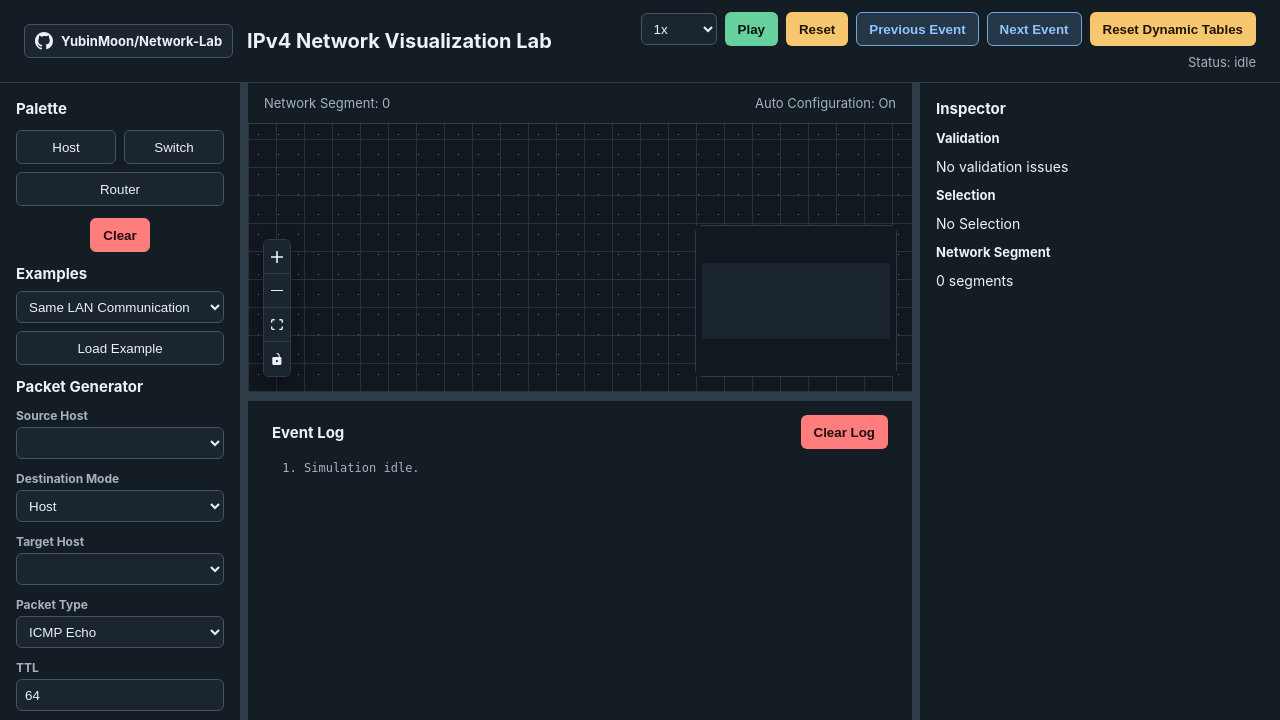
Scenario: App › creates the Event Log from the current Packet Generator input when Play starts idle
Select "Default Gateway Forwarding" in the 2nd dropdown at [120, 307], box 16,291 -> 224,323
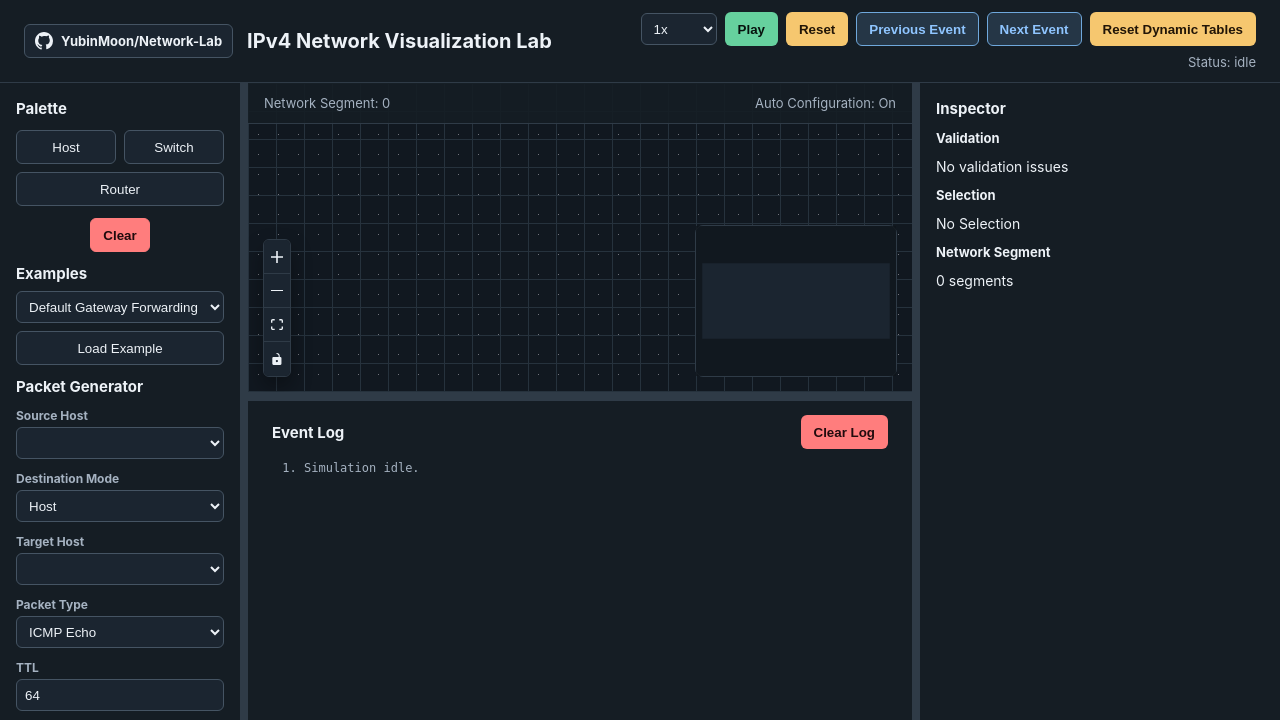
Click the button "Load Example".
click(120, 348)  # box 16,331 -> 224,365
(page scrolled)
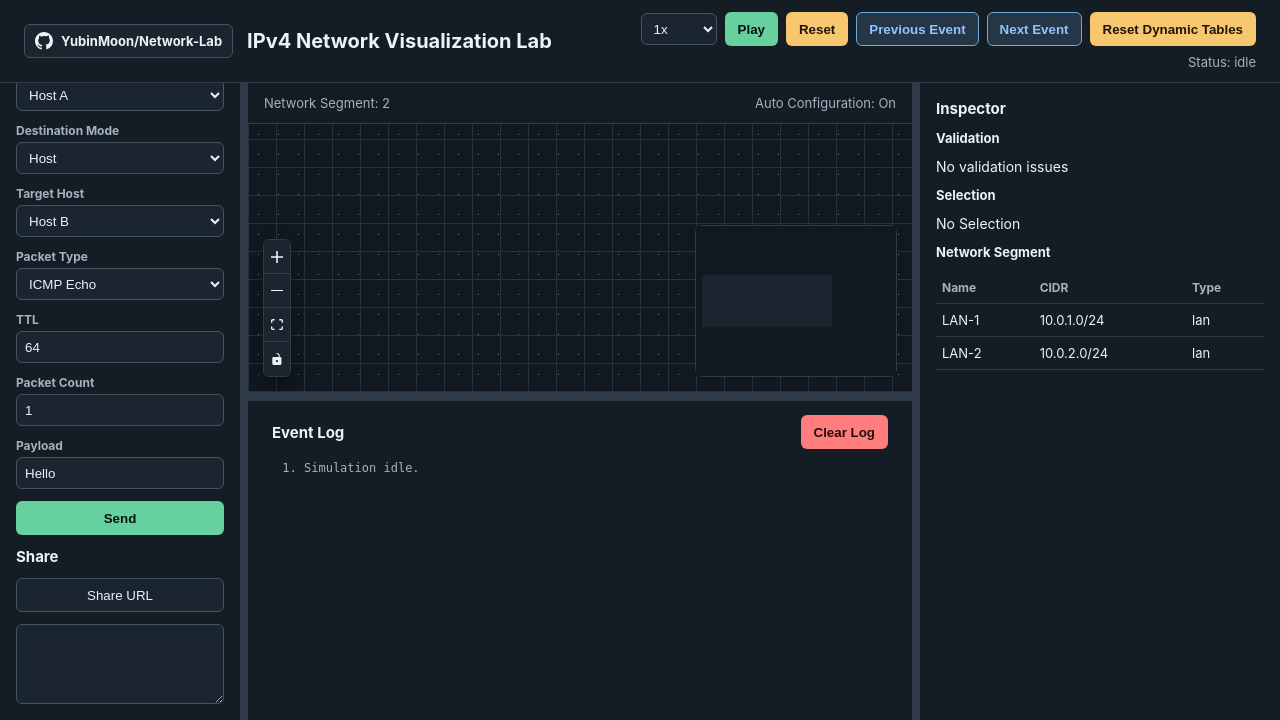
Expected: the list item "Simulation idle." is shown, 304,461 -> 420,475
Replace the text in the field labelled "Payload" with "Play starts send" at [120, 473], box 16,457 -> 224,489
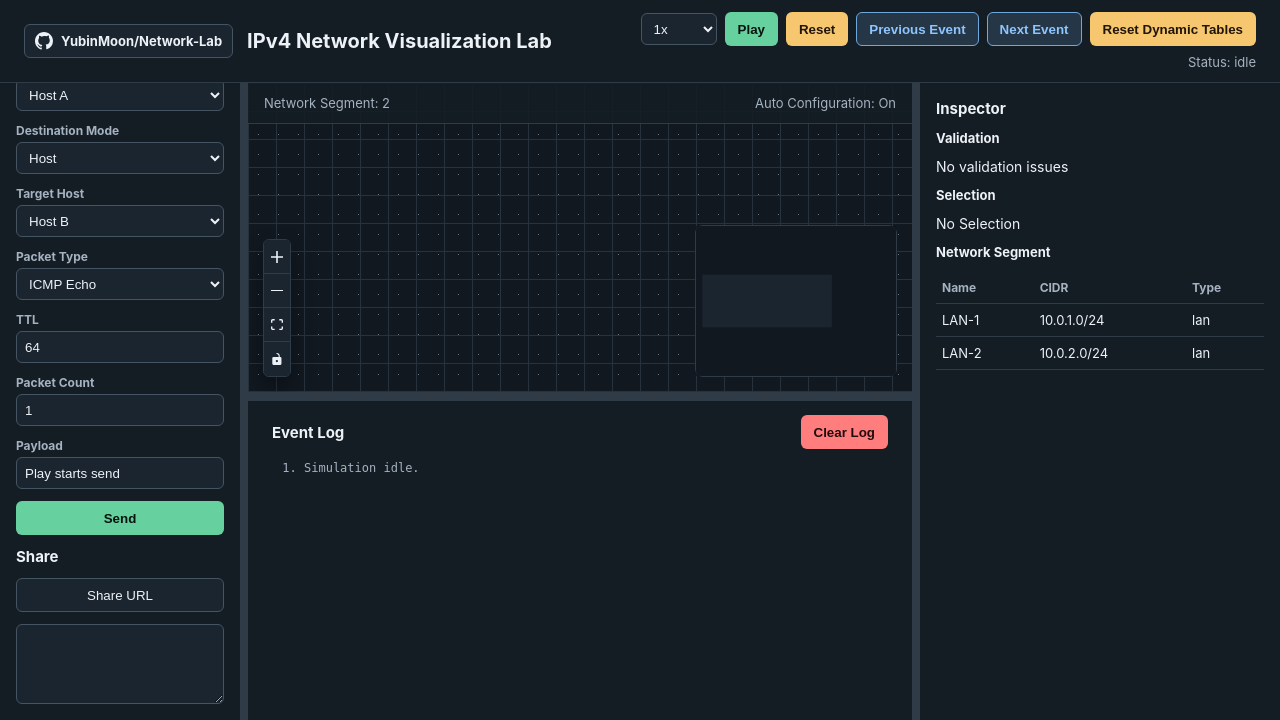
Click the button "Play".
click(751, 29)  # box 725,12 -> 778,46
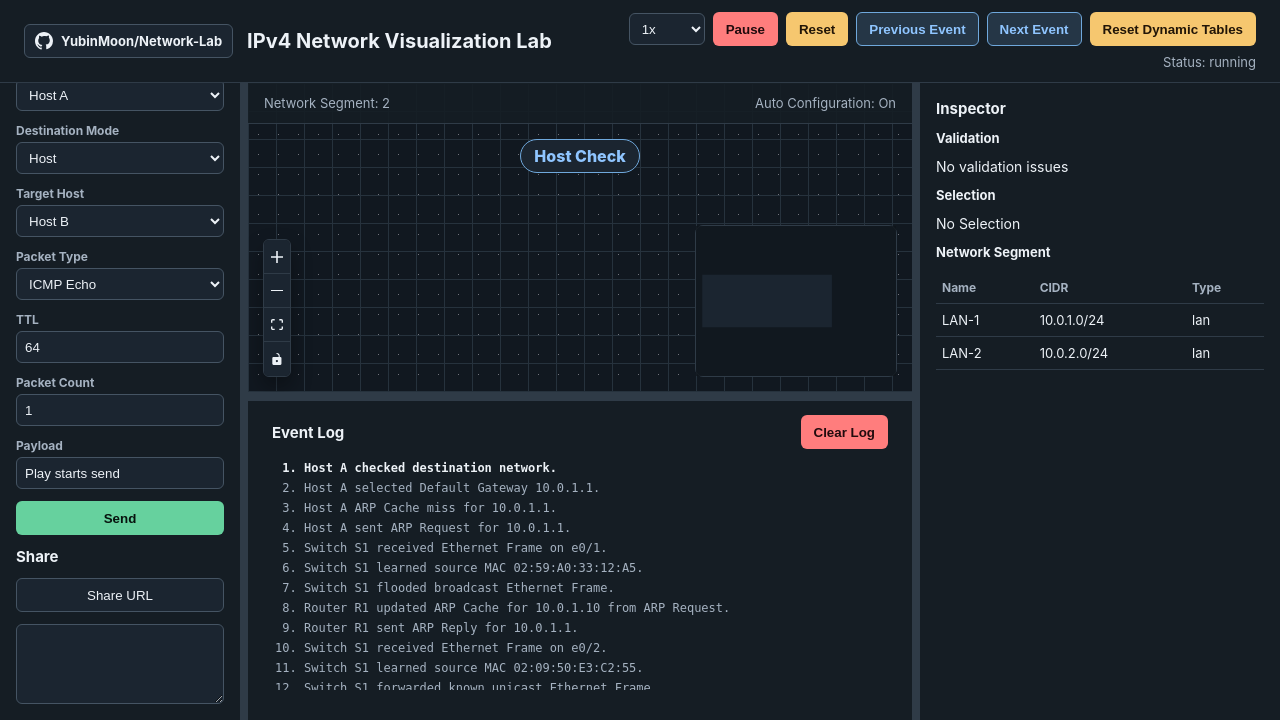
Expected: the button "Pause" is shown, 713,12 -> 778,46
